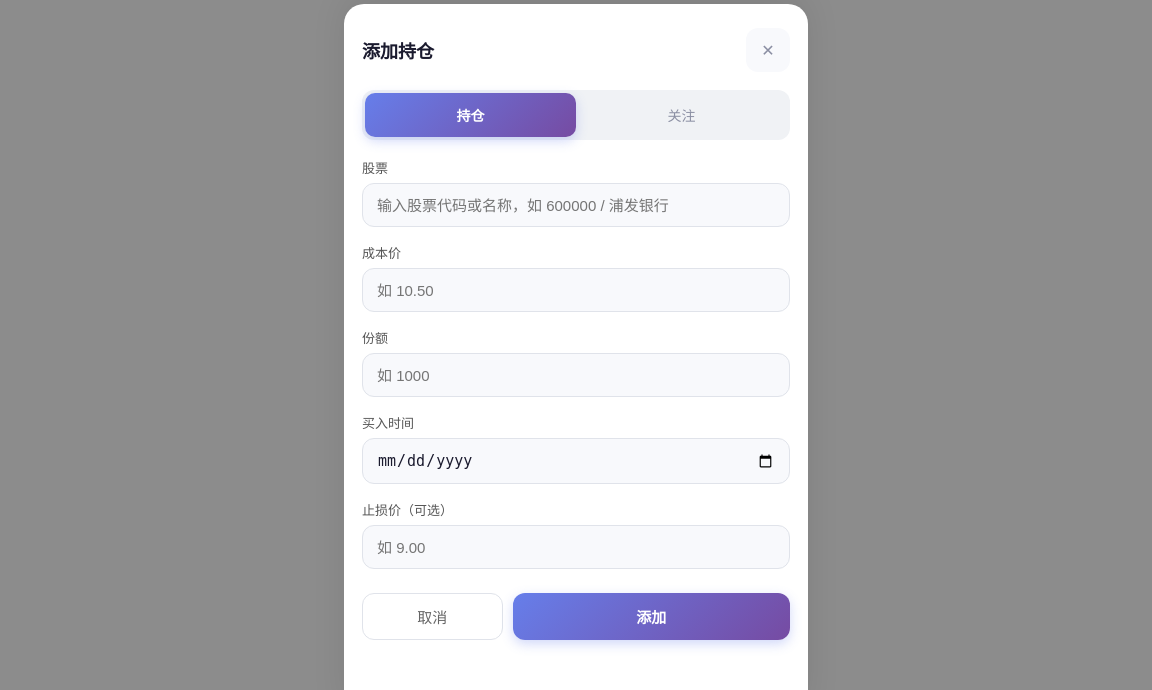
Test: PositionForm - Add Mode › validates stock selection must come from suggestions
Type "12345" into the field labelled "股票" at (576, 205), box [362,183,790,227]
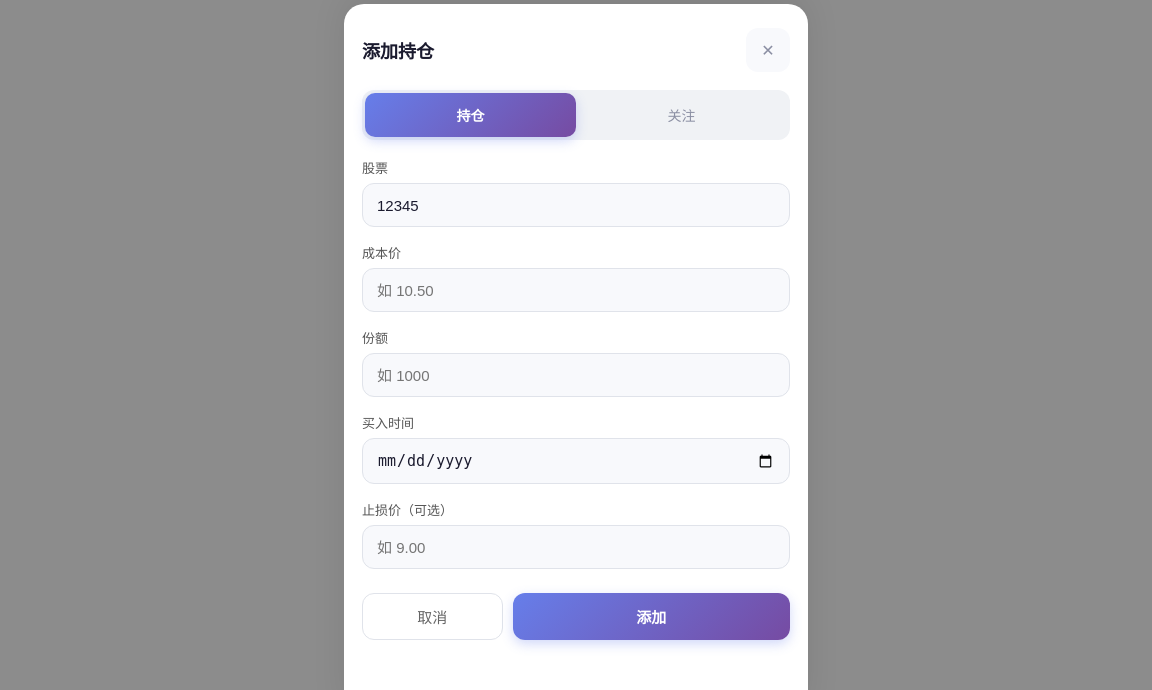
Type "10" into the field labelled "成本价" at (576, 290), box [362,268,790,312]
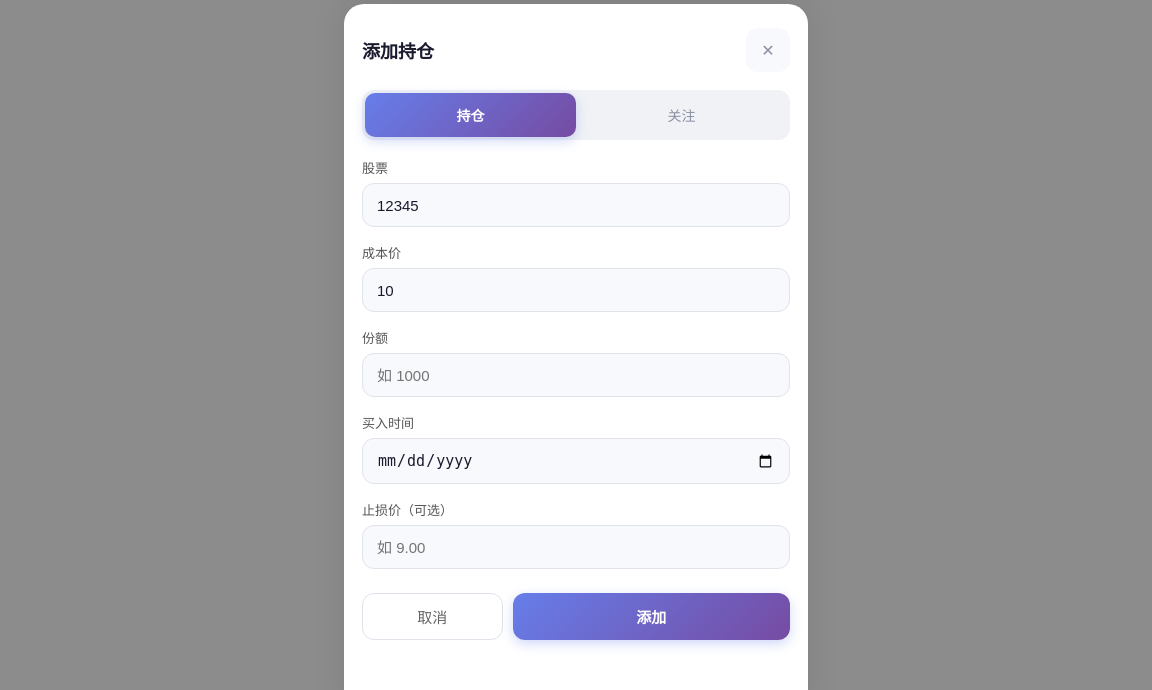
Type "100" into the field labelled "份额" at (576, 375), box [362,353,790,397]
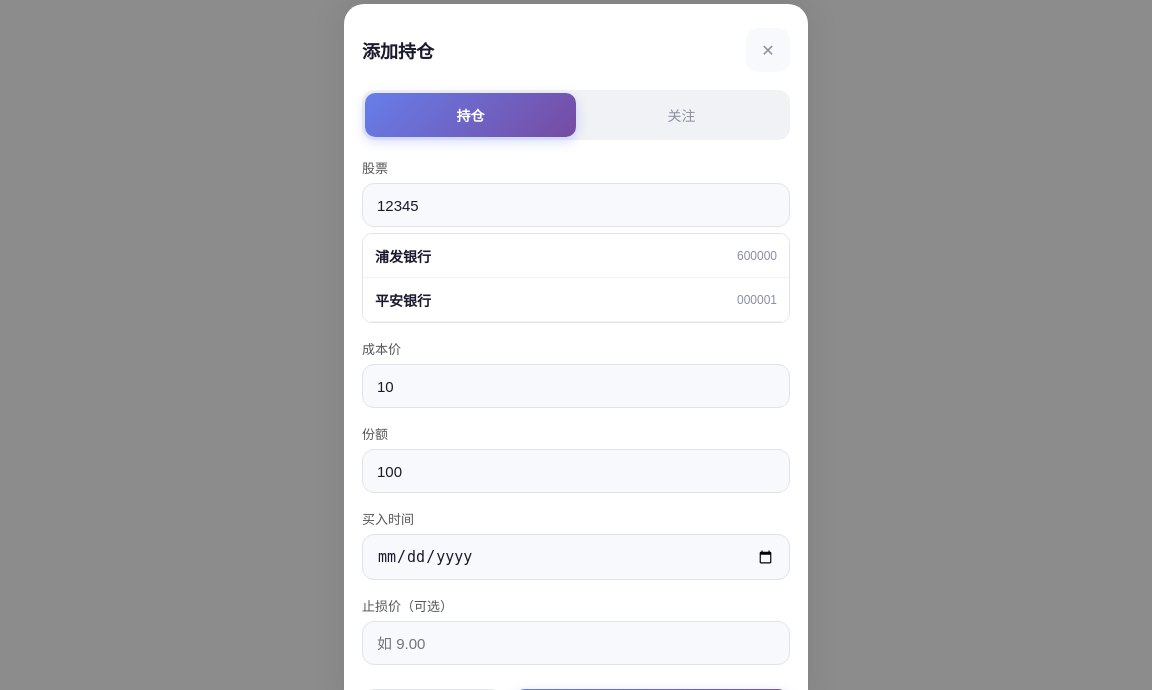
Type "2024-01-01" into the date field labelled "买入时间" at (576, 557), box [362,534,790,580]
(page scrolled)
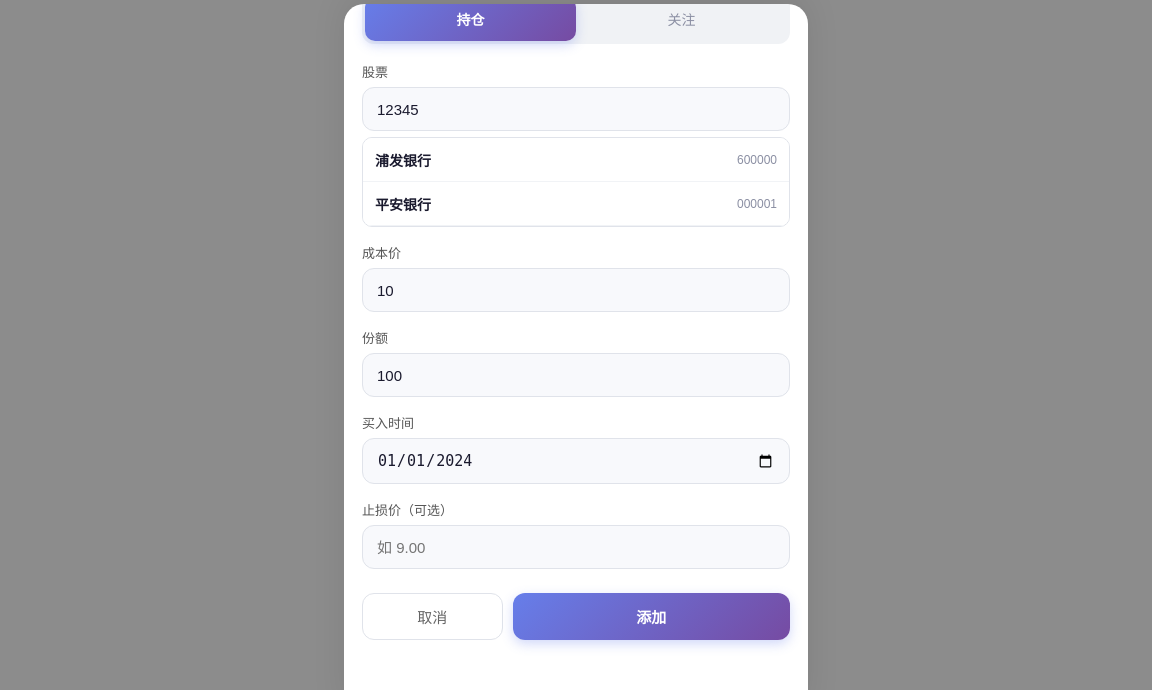
Click the button "添加" at (651, 616), box [513,593,790,640]
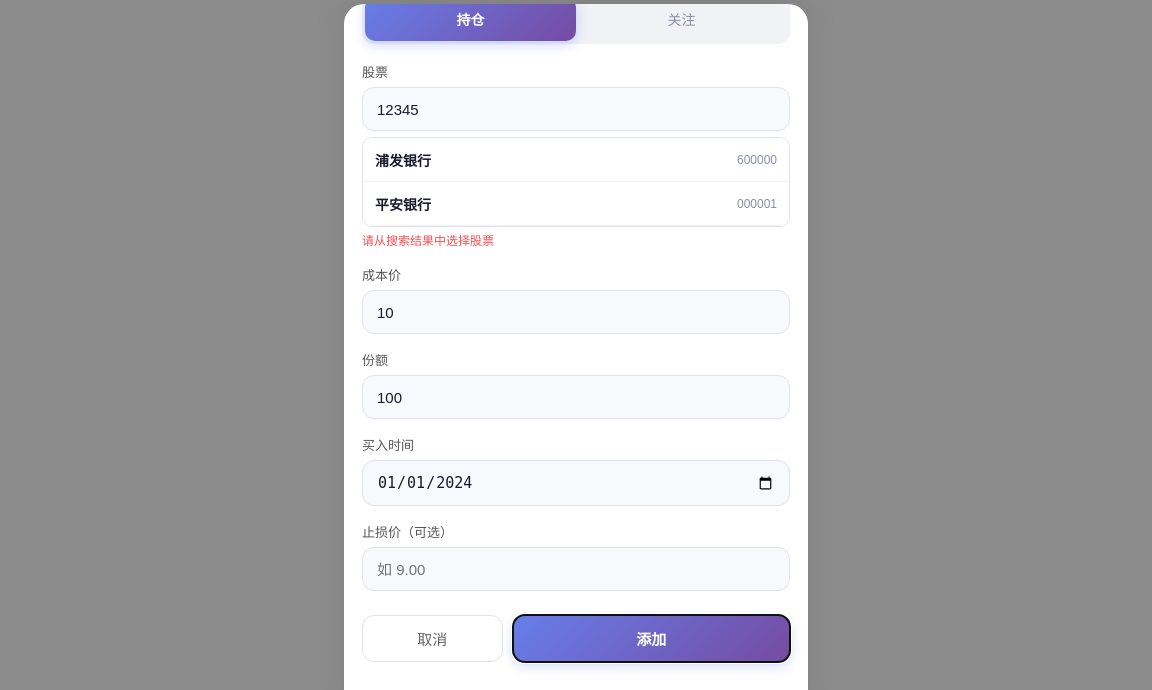
Now the text "请从搜索结果中选择股票" is shown, box [362,234,494,248]
